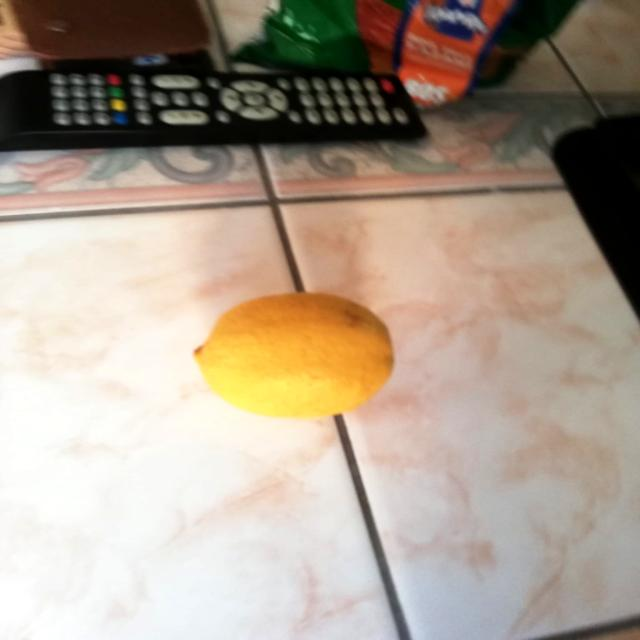lemon: (186, 289, 397, 425)
